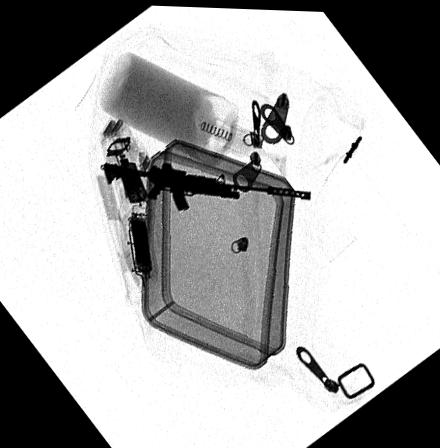Gun: (100, 156, 314, 208)
